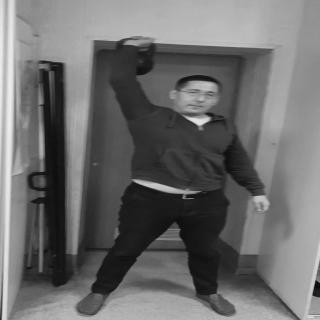kettlebell: (115, 37, 156, 76)
